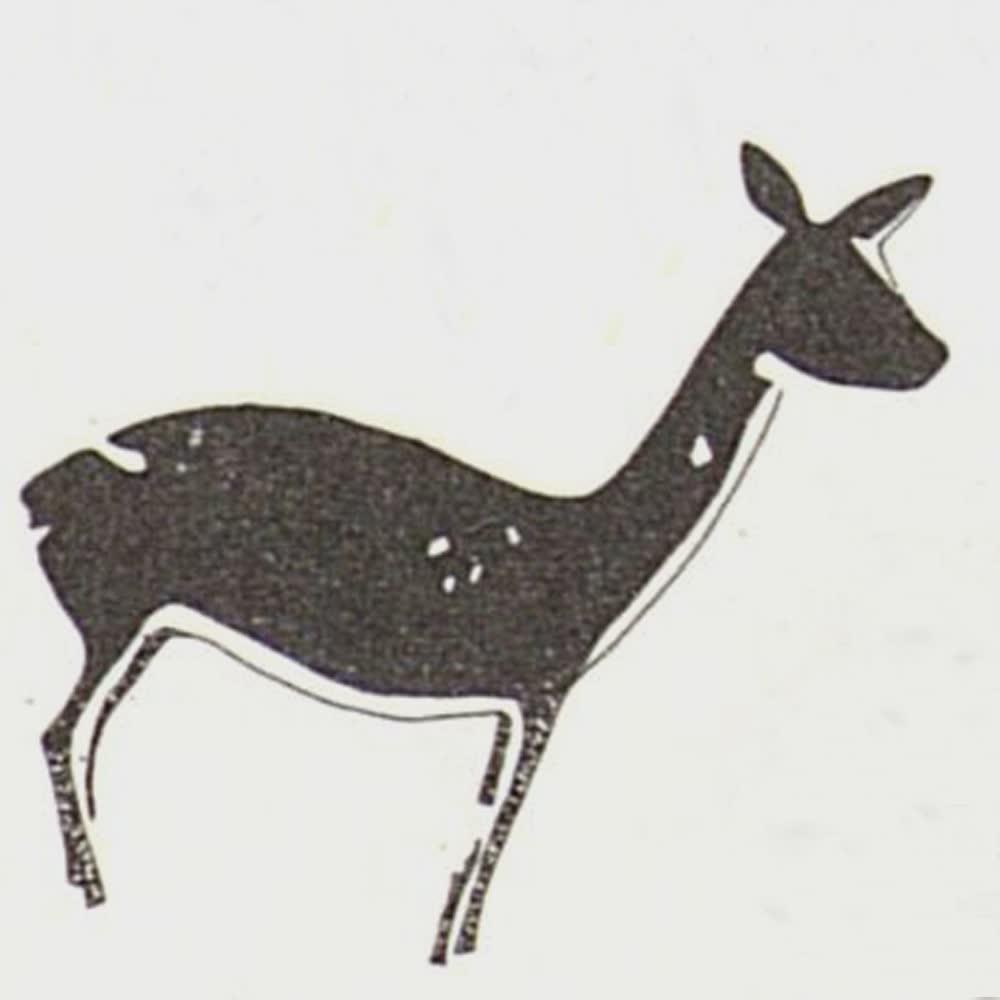animal: (15, 136, 975, 968)
